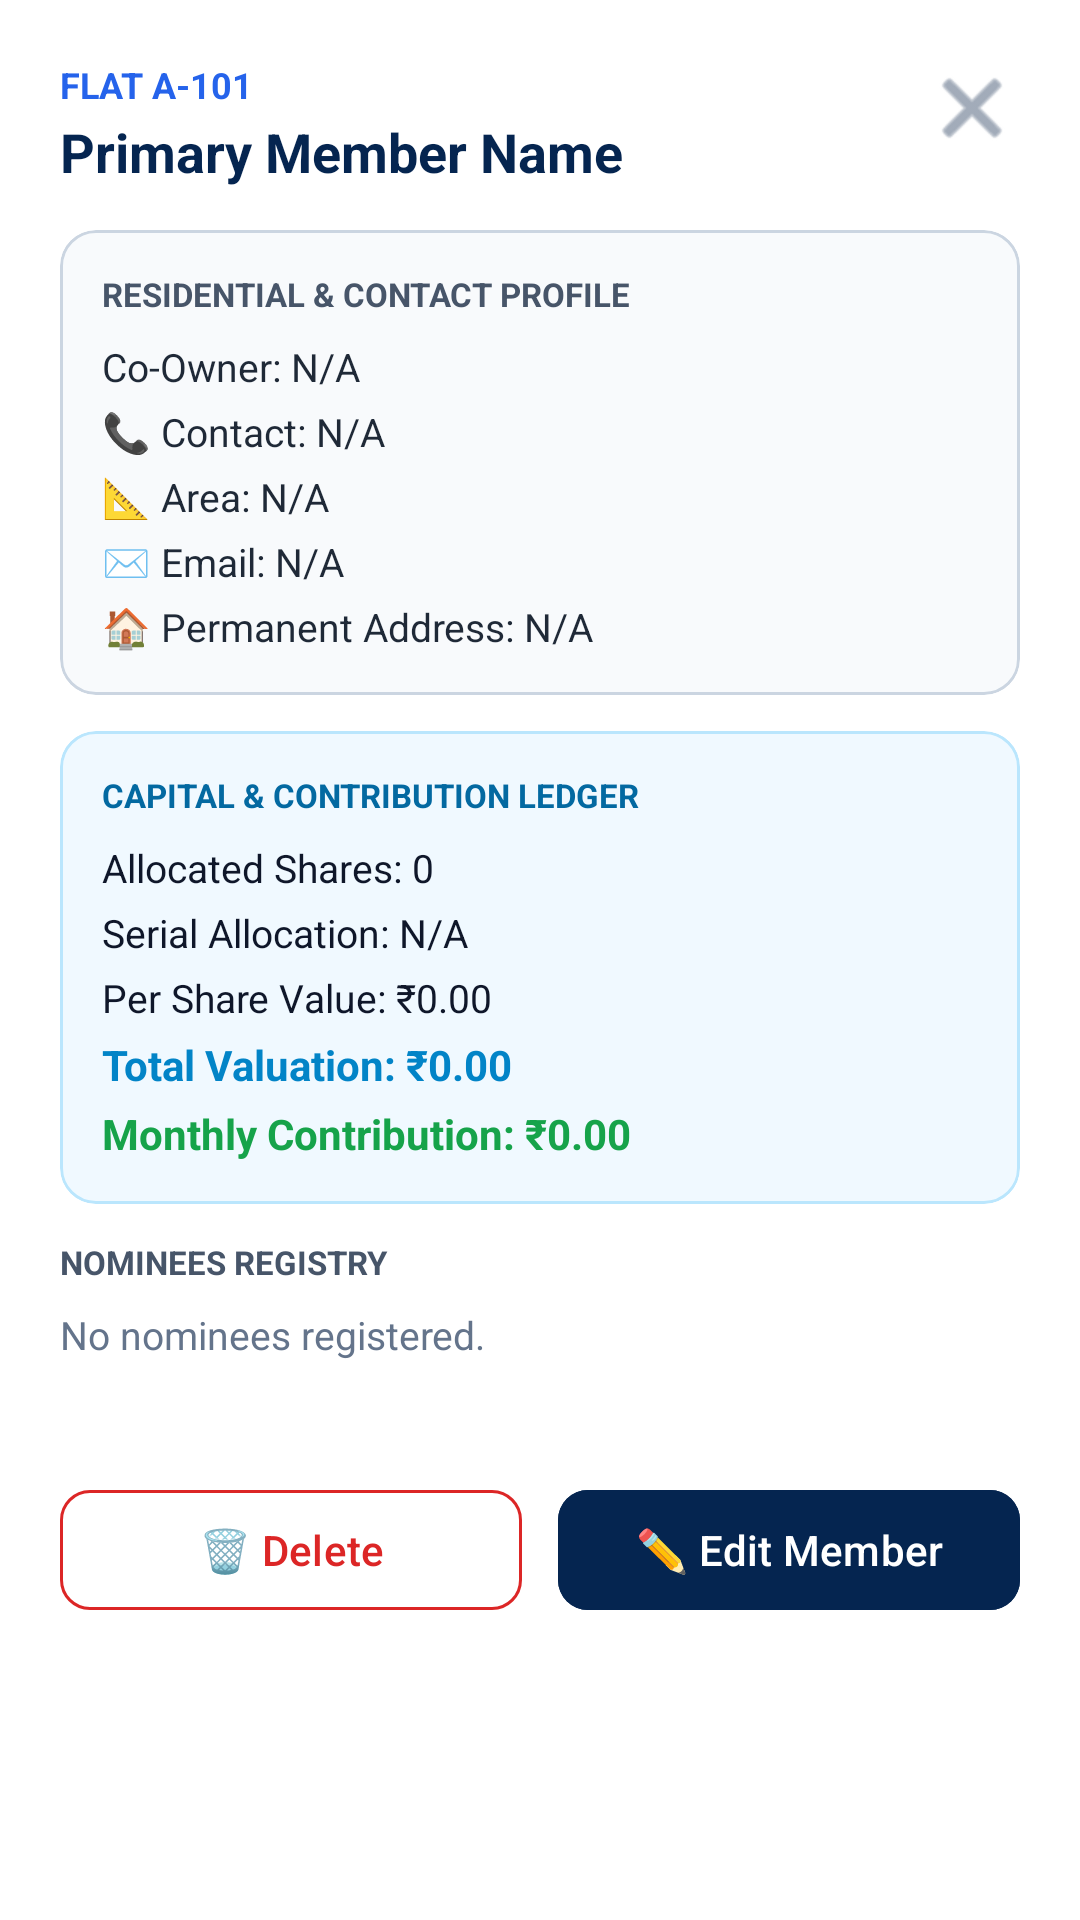

Icon bounding boxes for this 1080 × 1920 phone screenshot, format (x1, y1, x2, y2):
close clear cancel: (942, 78, 1002, 138)
